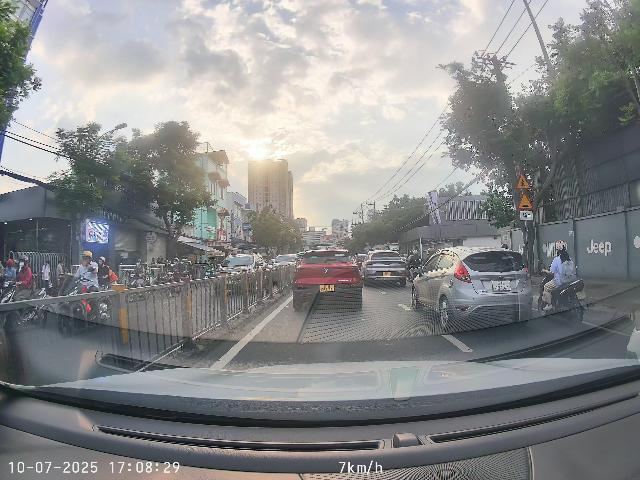221-duong-go-ghe: (517, 192, 534, 209)
224-duong-nguoi-di-bo-cat-ngang: (516, 172, 531, 189)
